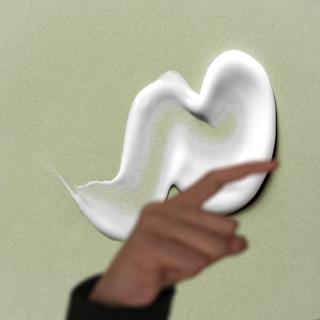WHY: (91, 155, 284, 306)
